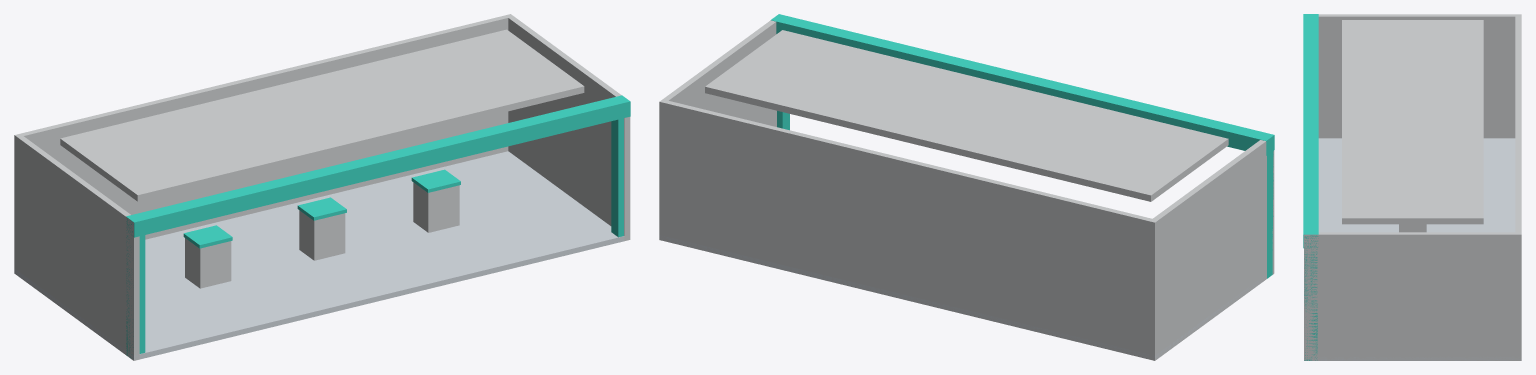
The picture shows the model from 3 angles, left to right: view 1: azimuth 30°, elevation 25°; view 2: azimuth 150°, elevation 25°; view 3: azimuth 270°, elevation 25°; orthographic projection. The views are drawn at different scales.
Visible parts, largest first — view 1: Exhibition Booth Concept; view 2: Exhibition Booth Concept; view 3: Exhibition Booth Concept.
Boxes of the visible parts, bbox=[...] form: Exhibition Booth Concept: bbox=[14, 14, 630, 360]; Exhibition Booth Concept: bbox=[659, 14, 1274, 360]; Exhibition Booth Concept: bbox=[1303, 14, 1521, 360].
Bounding box in the file's own units: 12 × 3.34 × 5.02.
